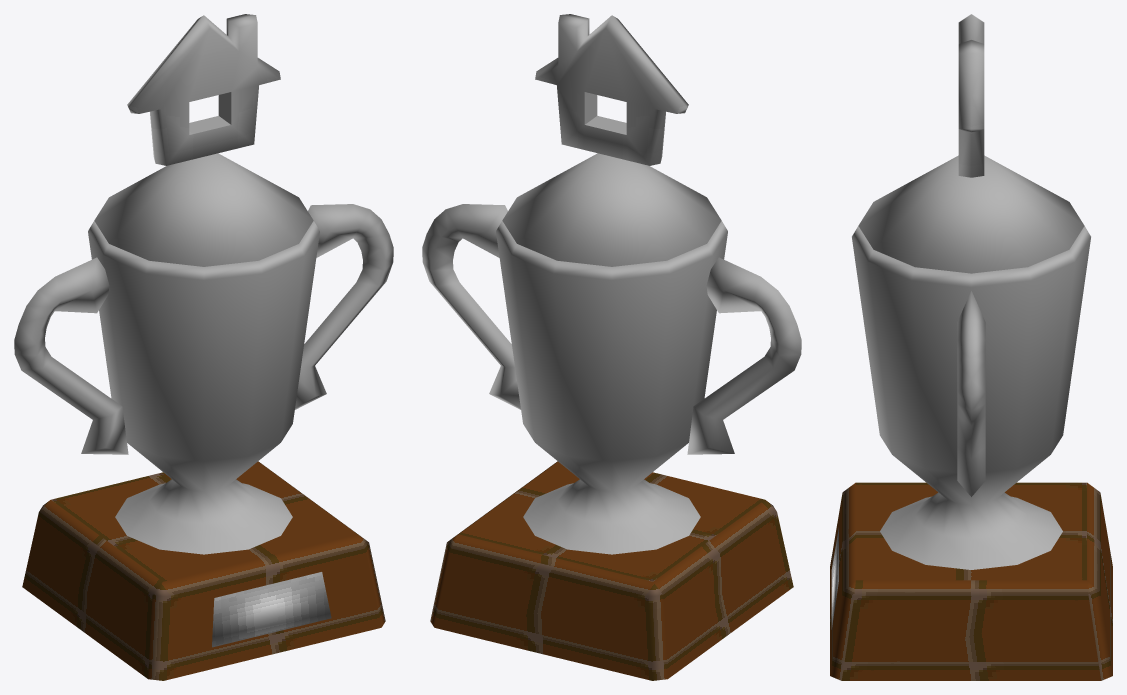
File: int_hha_trophy_B.dae
The picture shows the model from 3 angles, left to right: view 1: azimuth 30°, elevation 25°; view 2: azimuth 150°, elevation 25°; view 3: azimuth 270°, elevation 25°; orthographic projection. The views are drawn at different scales.
Parts seen in each view (by area): view 1: int_hha_trophy_B; view 2: int_hha_trophy_B; view 3: int_hha_trophy_B.
Boxes of the visible parts, x1,y1,x2,y2 form: int_hha_trophy_B: [14, 14, 393, 680]; int_hha_trophy_B: [422, 14, 801, 680]; int_hha_trophy_B: [830, 14, 1112, 680].
Size of the model in its own units: 25.56 by 37.91 by 16.
2 materials, 2 textured.
